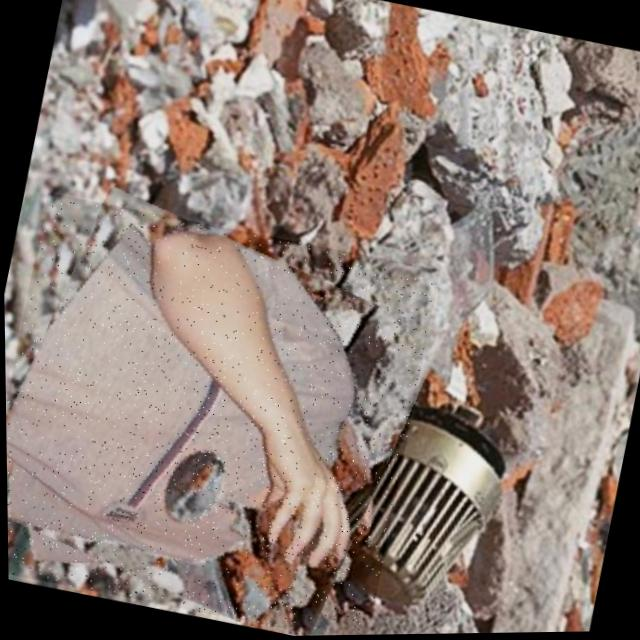Person in Rubble: (2, 187, 442, 640)
